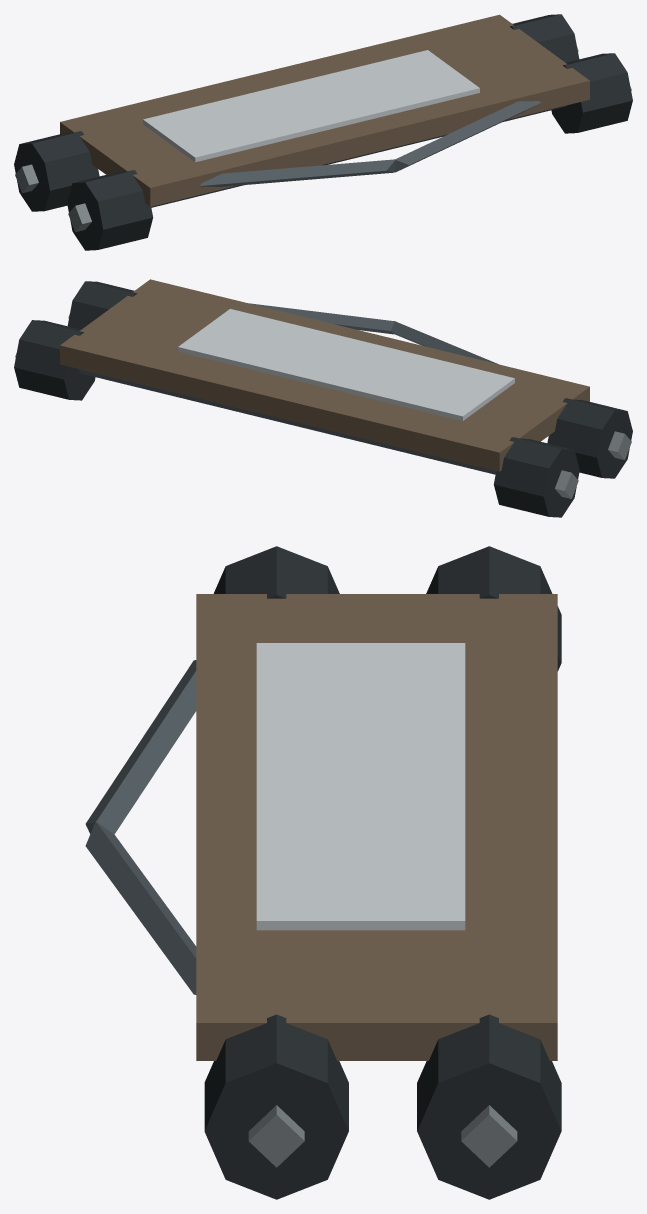
The model's file is flat_trailer.glb.
3 renders of one model, top to bottom at view 1: azimuth 30°, elevation 25°; view 2: azimuth 150°, elevation 25°; view 3: azimuth 270°, elevation 25°, orthographic. The views are drawn at different scales.
Parts seen in each view (by area): view 1: flat_trailer; view 2: flat_trailer; view 3: flat_trailer.
Part boxes in pixels (bbox=[...]): flat_trailer: bbox=[14, 14, 632, 250]; flat_trailer: bbox=[14, 279, 632, 517]; flat_trailer: bbox=[85, 546, 561, 1199].
Bounding box in the file's own units: 7.68 × 0.95 × 2.88.
